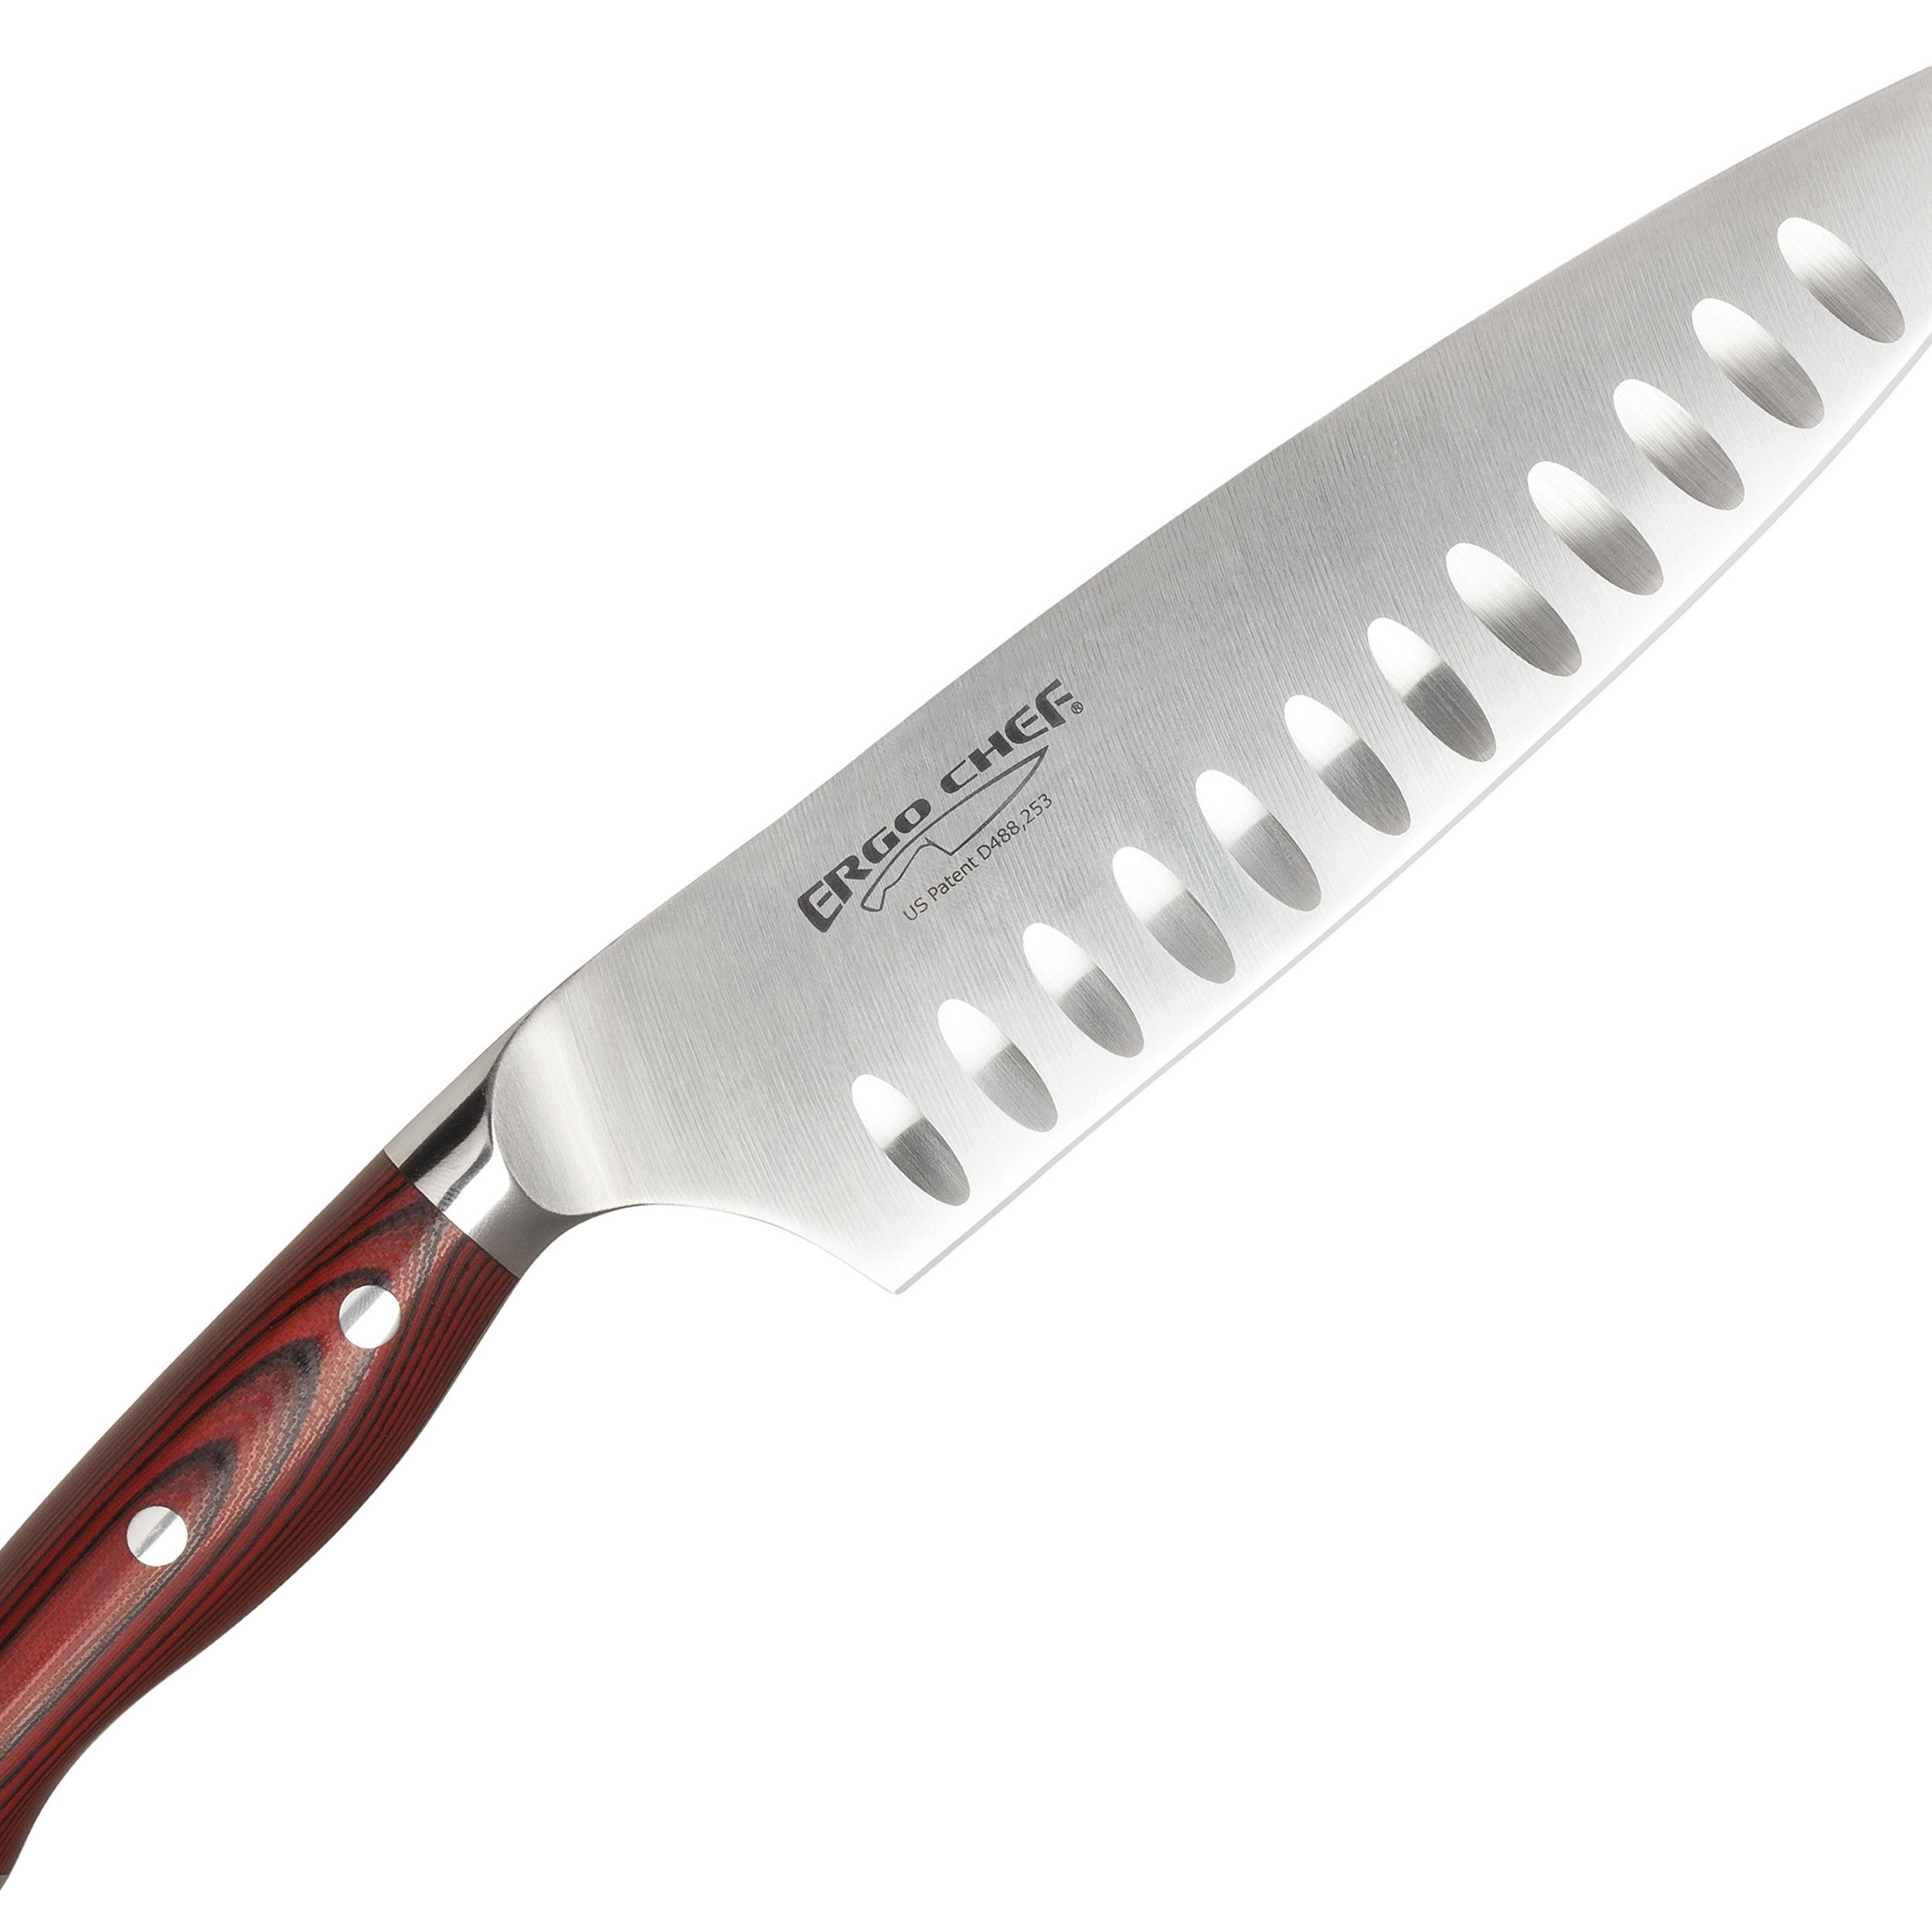knife: (11, 71, 1932, 1867)
